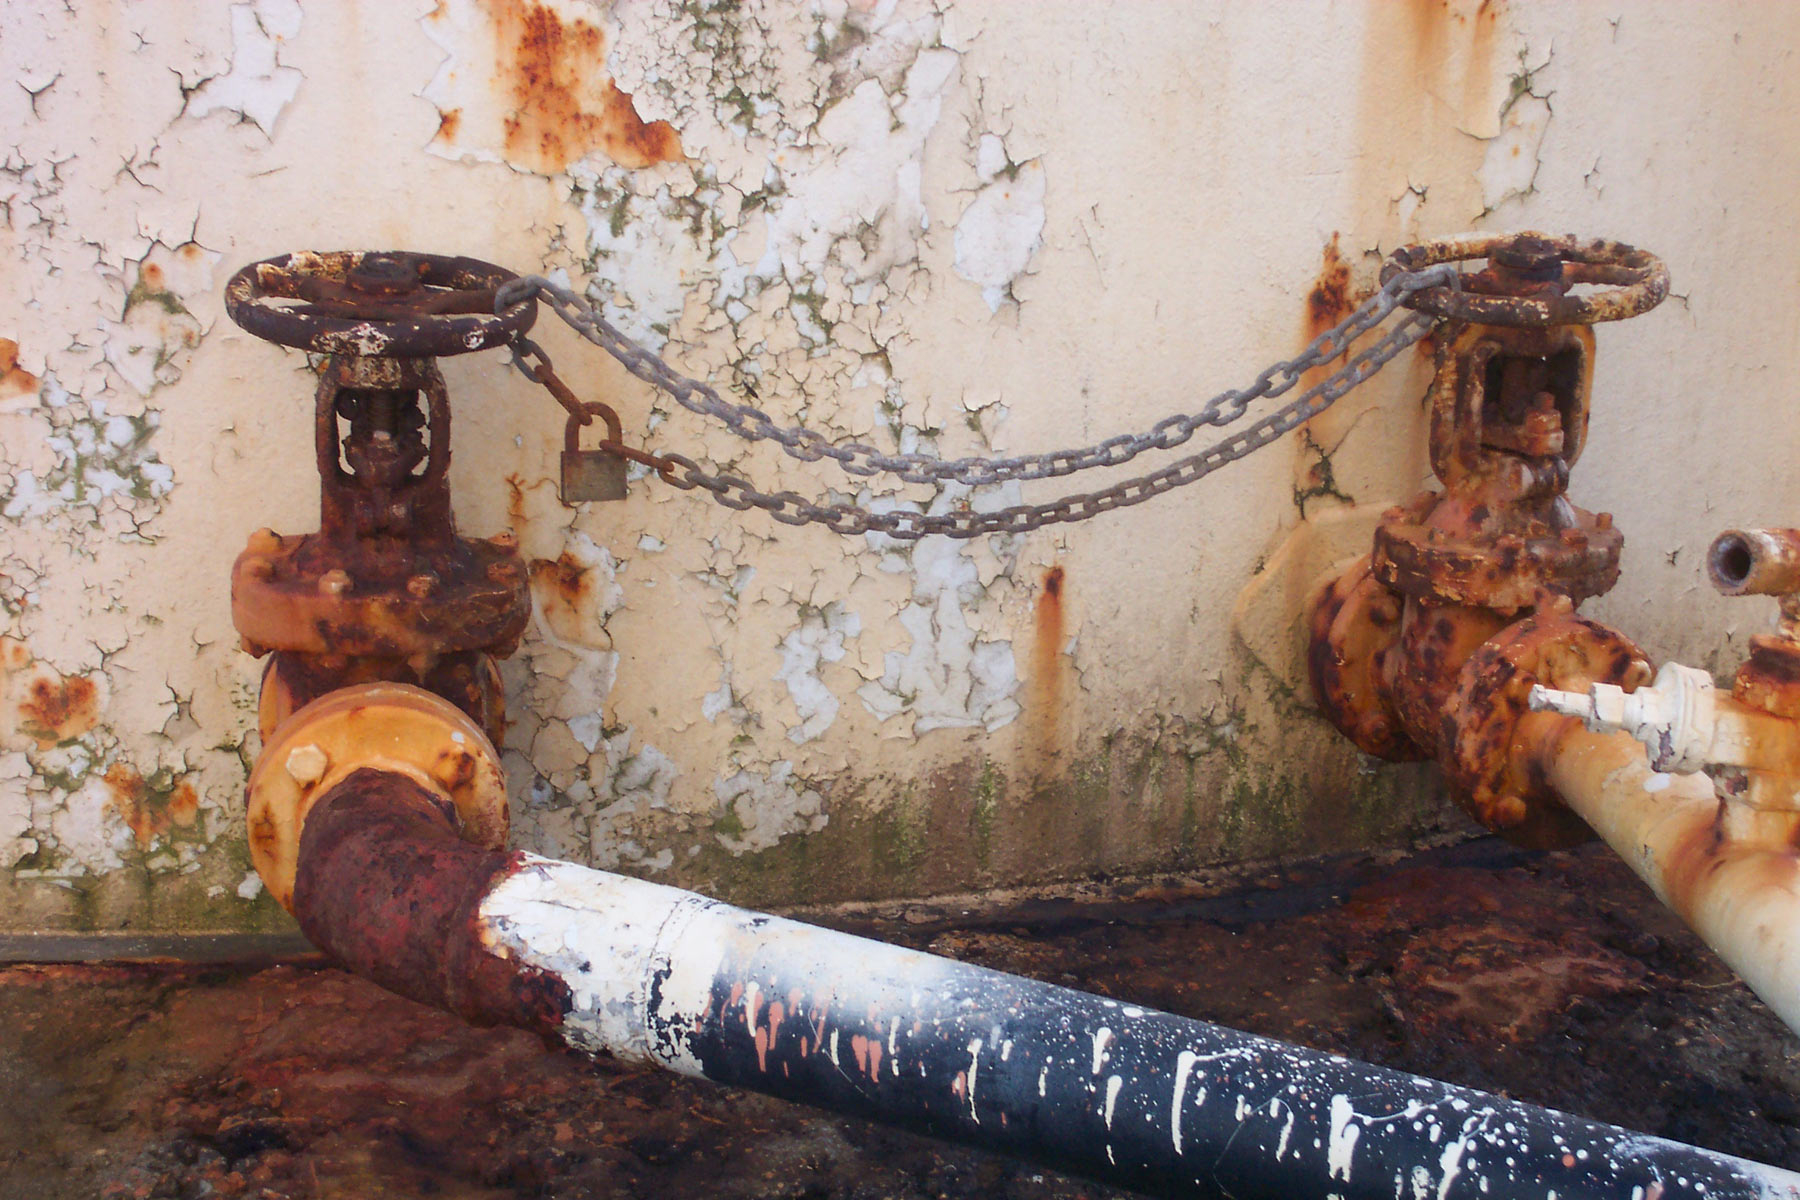rust: (171, 200, 615, 1023), (1274, 200, 1701, 805), (430, 8, 721, 170), (1713, 492, 1799, 897), (1027, 554, 1079, 763), (15, 658, 104, 761)
